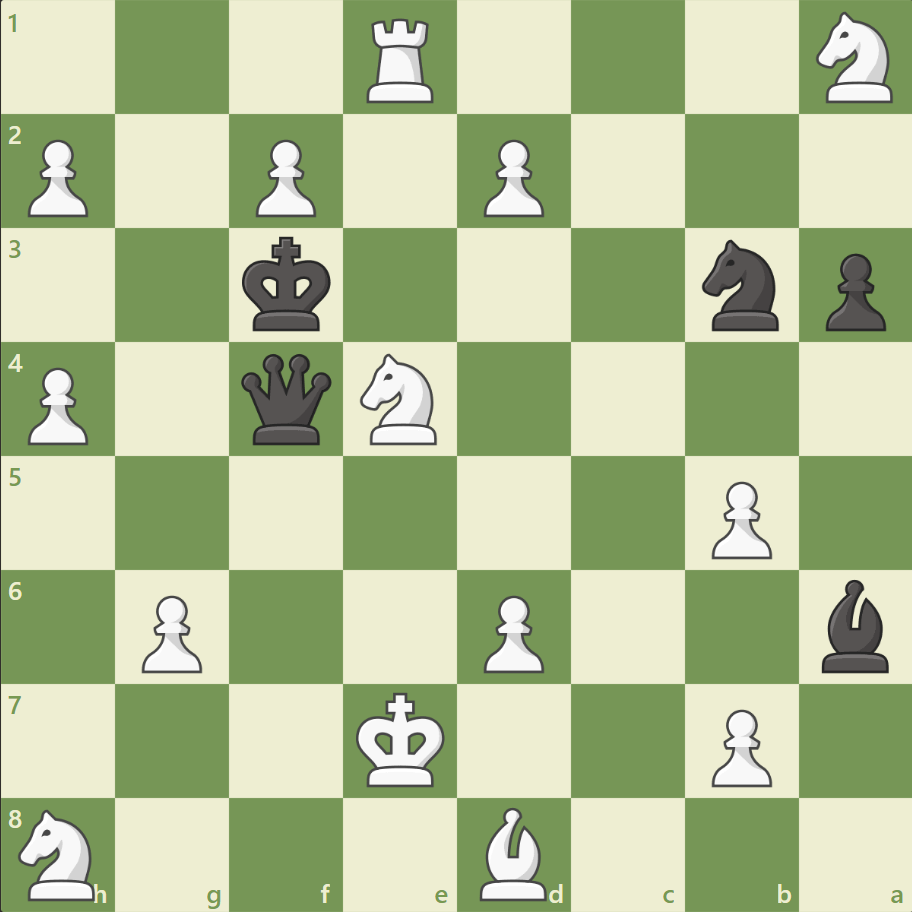B: (471, 801, 555, 904)
K: (351, 685, 451, 793)
N: (351, 348, 449, 450), (806, 7, 903, 110), (11, 802, 108, 904)
P: (701, 700, 776, 791), (474, 586, 549, 677), (133, 586, 208, 677), (701, 473, 776, 564), (20, 359, 95, 450), (474, 132, 549, 223), (247, 132, 322, 223), (20, 132, 95, 223)
R: (360, 12, 442, 109)
b: (812, 574, 896, 676)
k: (238, 231, 338, 339)
n: (692, 234, 789, 337)
p: (815, 246, 889, 337)
q: (237, 349, 336, 449)
